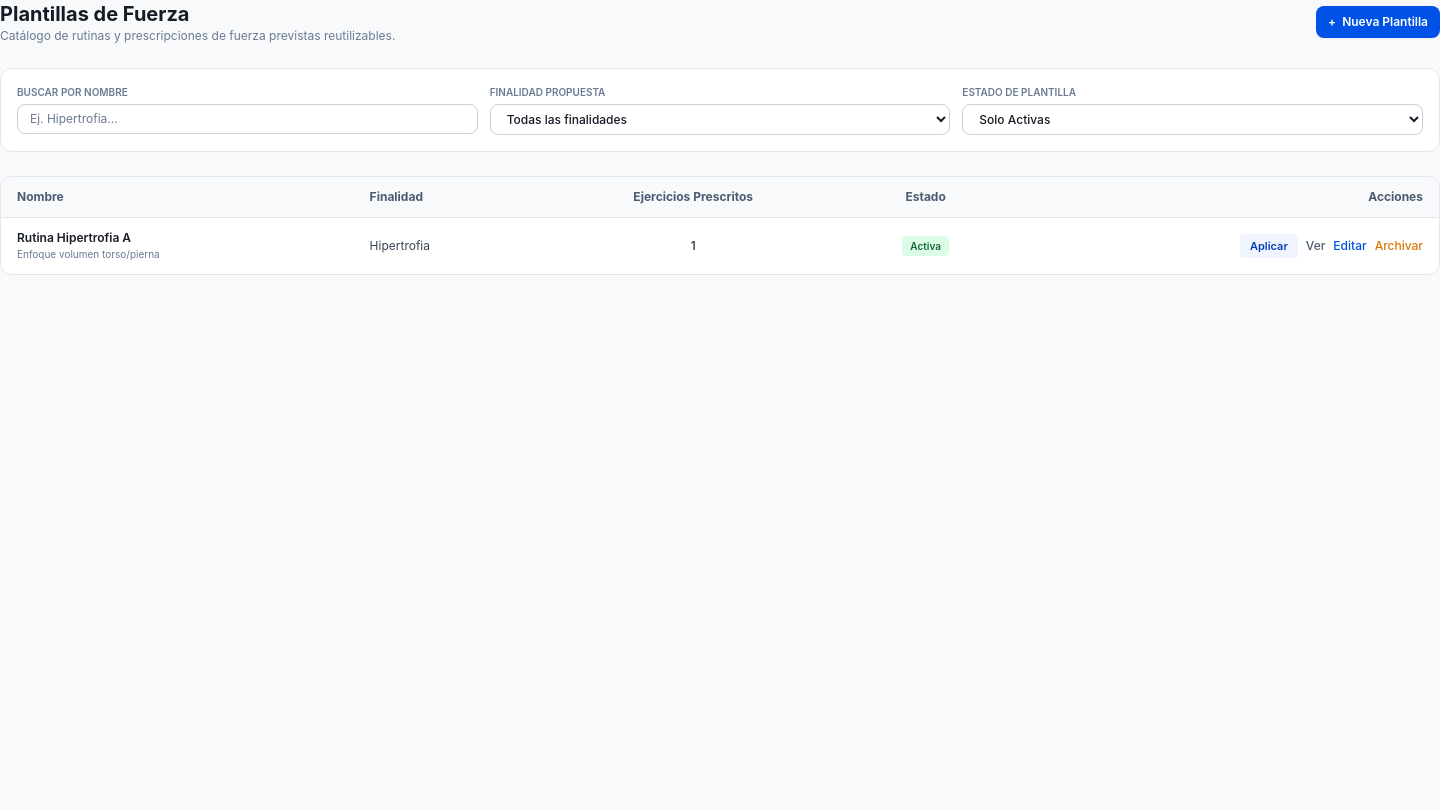
Test: TemplateListPage & Flujo de Plantillas (Bloque 5) › 7. Editar plantilla existente carga y conserva sus ejercicios guardados en lugar de sobrescribirlos con defaultEjercicioId
Note: Hacer clic en 'Editar' en la plantilla 'Rutina Hipertrofia A'
Click the button "Editar" at (1350, 246), box [1333,238,1367,254]
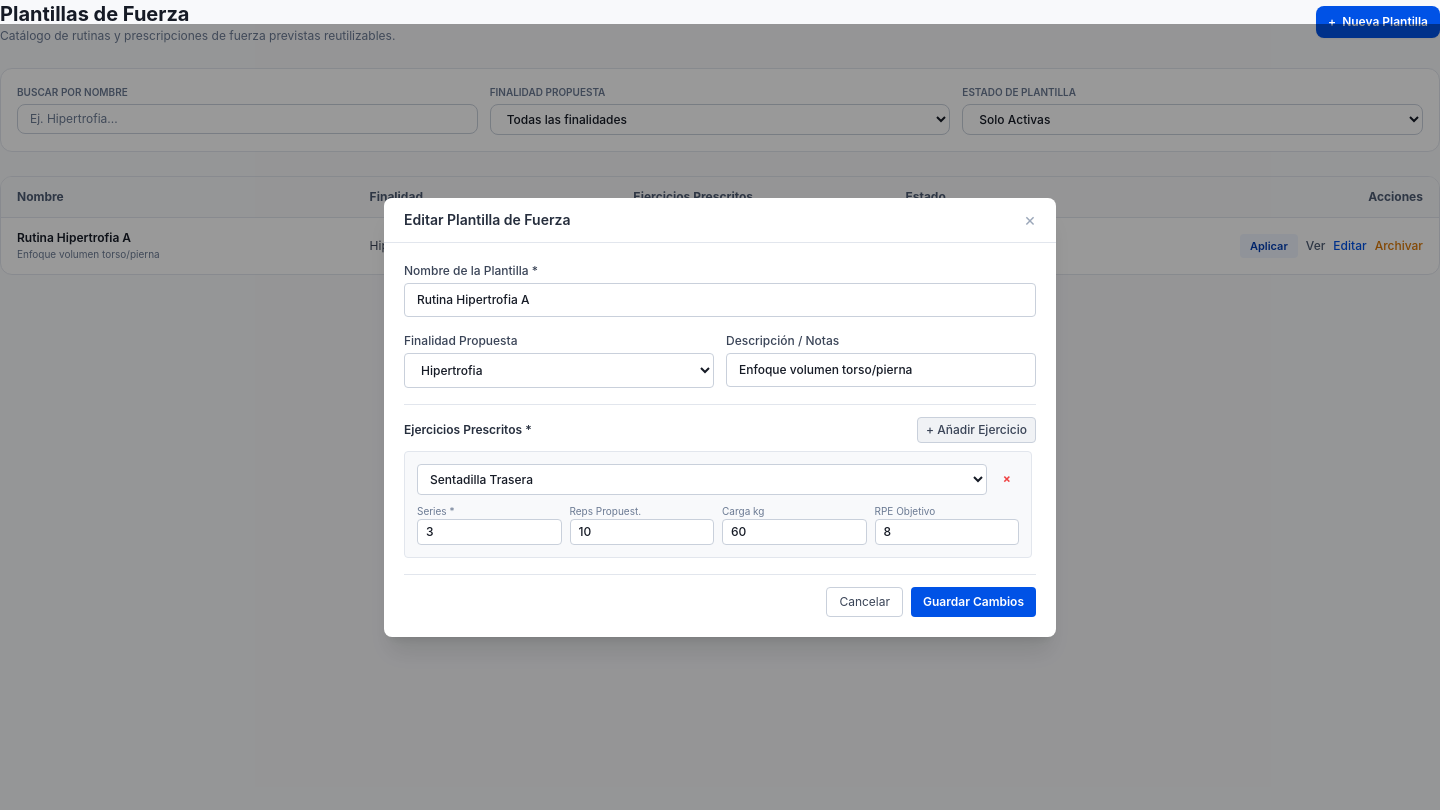
Result: the heading "Editar Plantilla de Fuerza" is shown at [404,210,570,230]
Result: the field with placeholder "Ej: Rutina Fuerza Máxima A" below "Nombre de la Plantilla *" holds "Rutina Hipertrofia A" at [404,282,1036,316]
Result: the dropdown below "Ejercicios Prescritos *" shows "Sentadilla Trasera" at [417,464,987,494]
